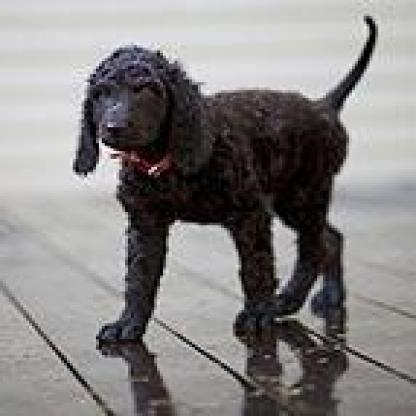Irish_water_spaniel: (67, 11, 378, 352)
